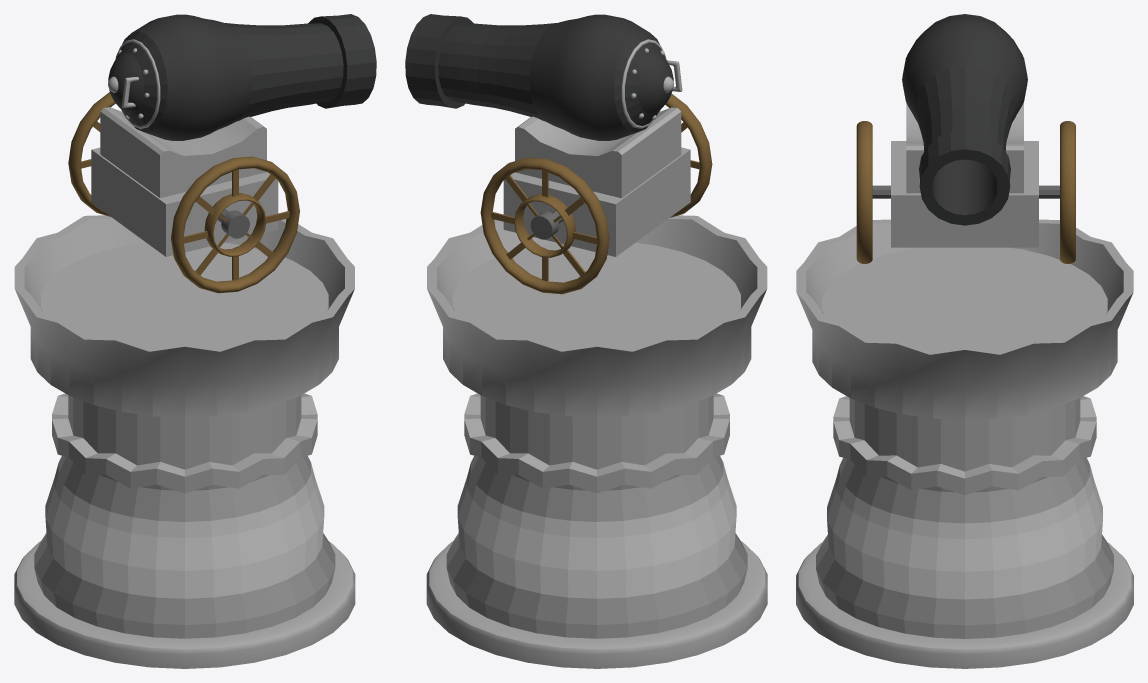
The model's file is Cannon1_Co_Hs.fbx.
3 renders of one model, left to right at view 1: azimuth 30°, elevation 25°; view 2: azimuth 150°, elevation 25°; view 3: azimuth 270°, elevation 25°, orthographic.
Parts seen in each view (by area): view 1: pCylinder4, pCube54, pCylinder5; view 2: pCylinder4, pCube54, pCylinder5; view 3: pCylinder4, pCube54, pCylinder5.
Part boxes in pixels (x1,y1,x2,y2): pCylinder4: (14, 215, 355, 668); pCube54: (68, 14, 376, 293); pCylinder5: (41, 242, 328, 347); pCylinder4: (426, 215, 767, 668); pCube54: (405, 14, 712, 294); pCylinder5: (453, 242, 740, 347); pCylinder4: (796, 219, 1133, 668); pCube54: (856, 14, 1075, 263); pCylinder5: (822, 247, 1107, 350).
Size of the model in its own units: 12.79 by 21.91 by 11.73.
